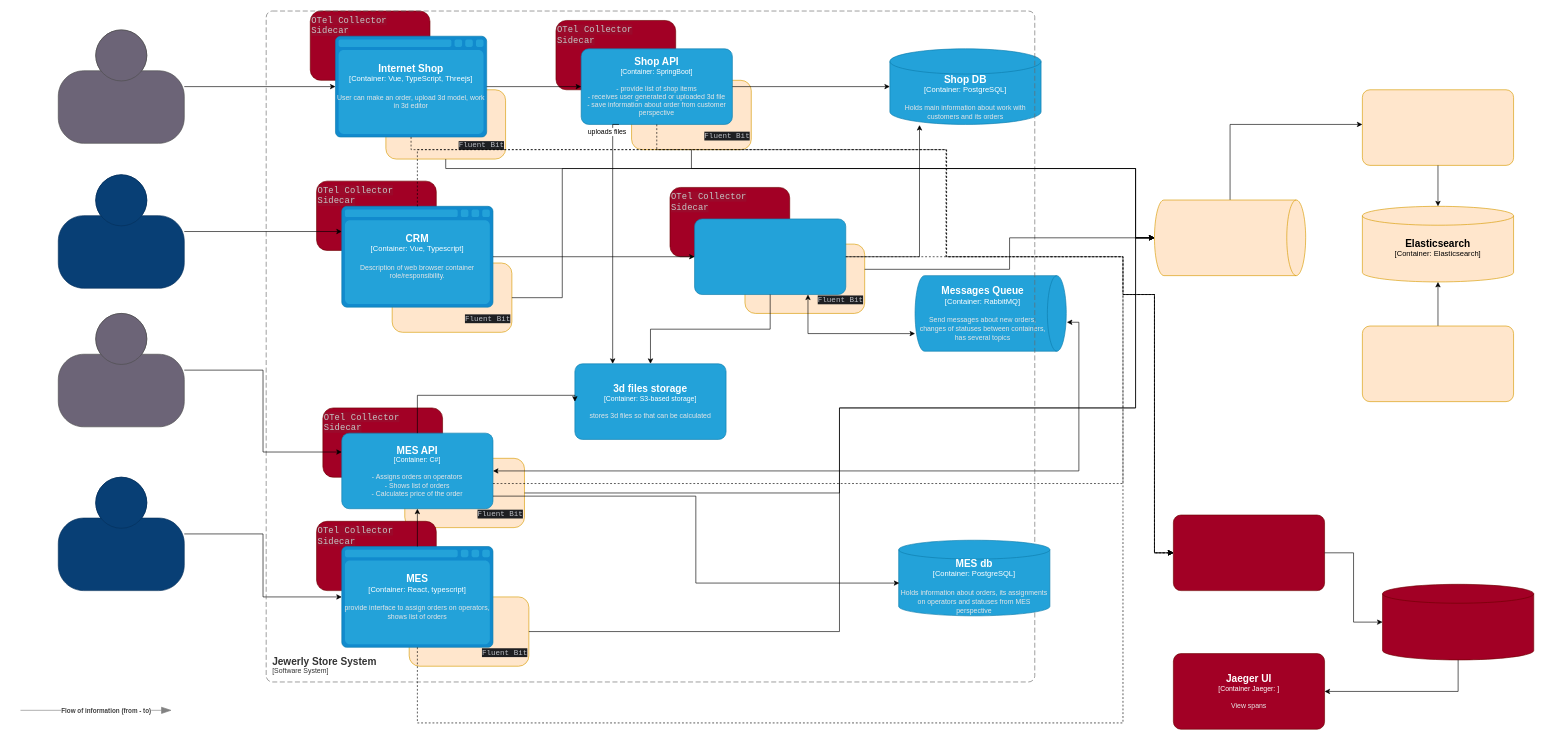
This 1545x740 diagram has some shape labels left out. Each missing label, with the centre of its shape:
"API user [Person] Description of external person." belongs at point 121,370.
"CRM API [Container: SpringBoot] Description of container role/responsibility." belongs at point 770,256.
"Customer [Person] Description of external person." belongs at point 121,86.
"Jaeger backend [Container Jaeger: ] Receive spans" belongs at point 1249,552.
"Jaeger db [Container: Elasticsearch]" belongs at point 1458,622.
"Kibana [Container: ] View logs" belongs at point 1438,363.
"Logs Queue [Container: Kafka]" belongs at point 1230,237.
"Logstash [Container: ] Receive logs" belongs at point 1438,127.
"Operator [Person] Takes order in work, manufactures jewerly" belongs at point 121,534.
"Seller [Person] Operates with order, confirms manufacturing for the user" belongs at point 121,231.
